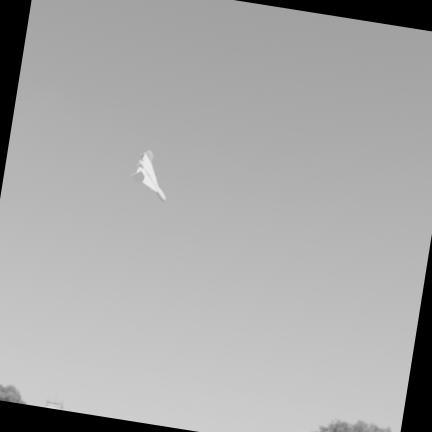Shahed: (132, 151, 165, 201)
